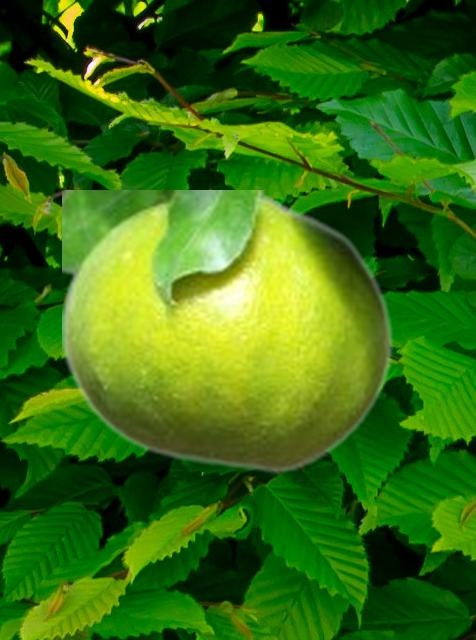dalandan: (62, 190, 393, 473)
